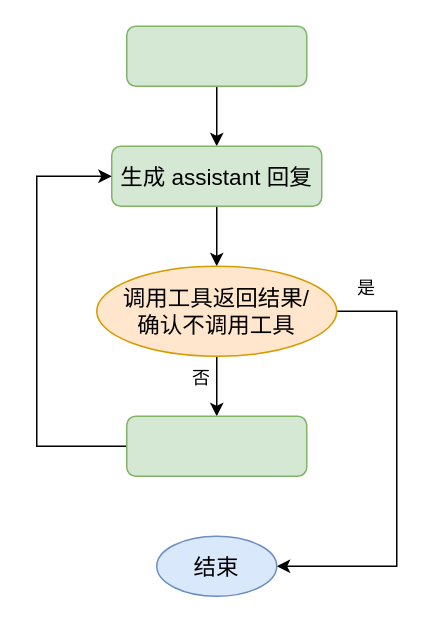
The diagram is 438 pixels wide and 623 high, and some of its shapes have lost their labels. Each missing label, with the box of its shape:
生成用户回复: (125, 415, 307, 476)
生成用户首句: (125, 25, 307, 86)
